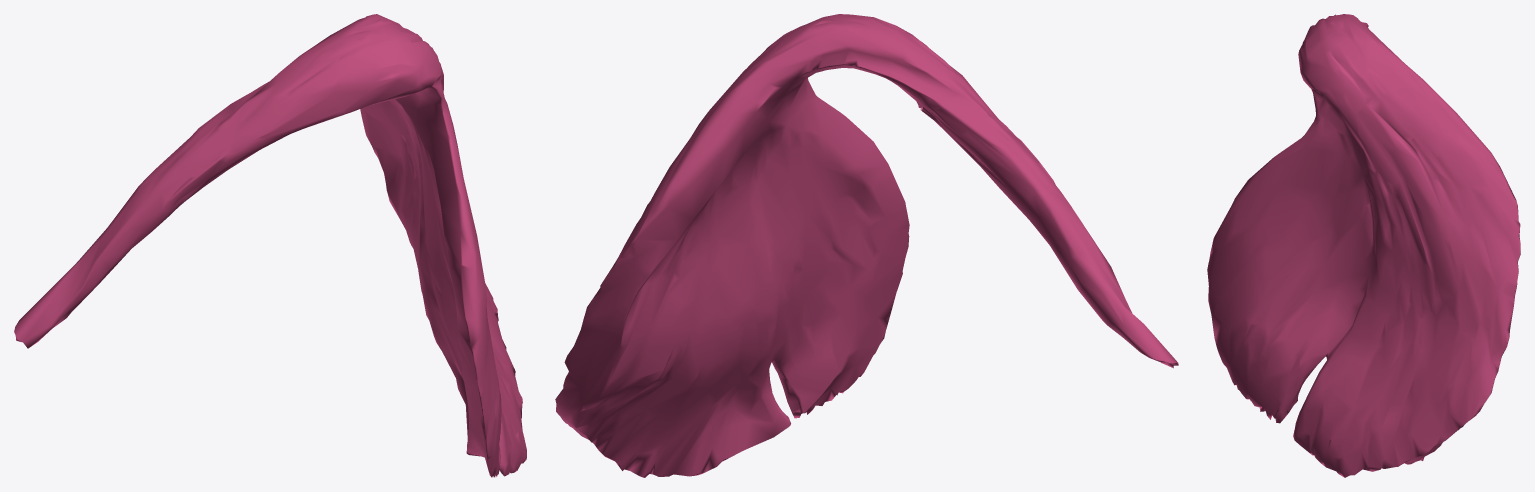
3 views of the same model, side by side, from view 1: azimuth 30°, elevation 25°; view 2: azimuth 150°, elevation 25°; view 3: azimuth 270°, elevation 25° (orthographic). The views are drawn at different scales.
Parts seen in each view (by area): view 1: 右侧闭孔内肌; view 2: 右侧闭孔内肌; view 3: 右侧闭孔内肌.
Boxes of the visible parts, x1=… form: 右侧闭孔内肌: x1=14, y1=14, x2=526, y2=477; 右侧闭孔内肌: x1=555, y1=14, x2=1178, y2=477; 右侧闭孔内肌: x1=1207, y1=14, x2=1520, y2=477.
Size of the model in its own units: 0.144 by 0.1202 by 0.0881.
